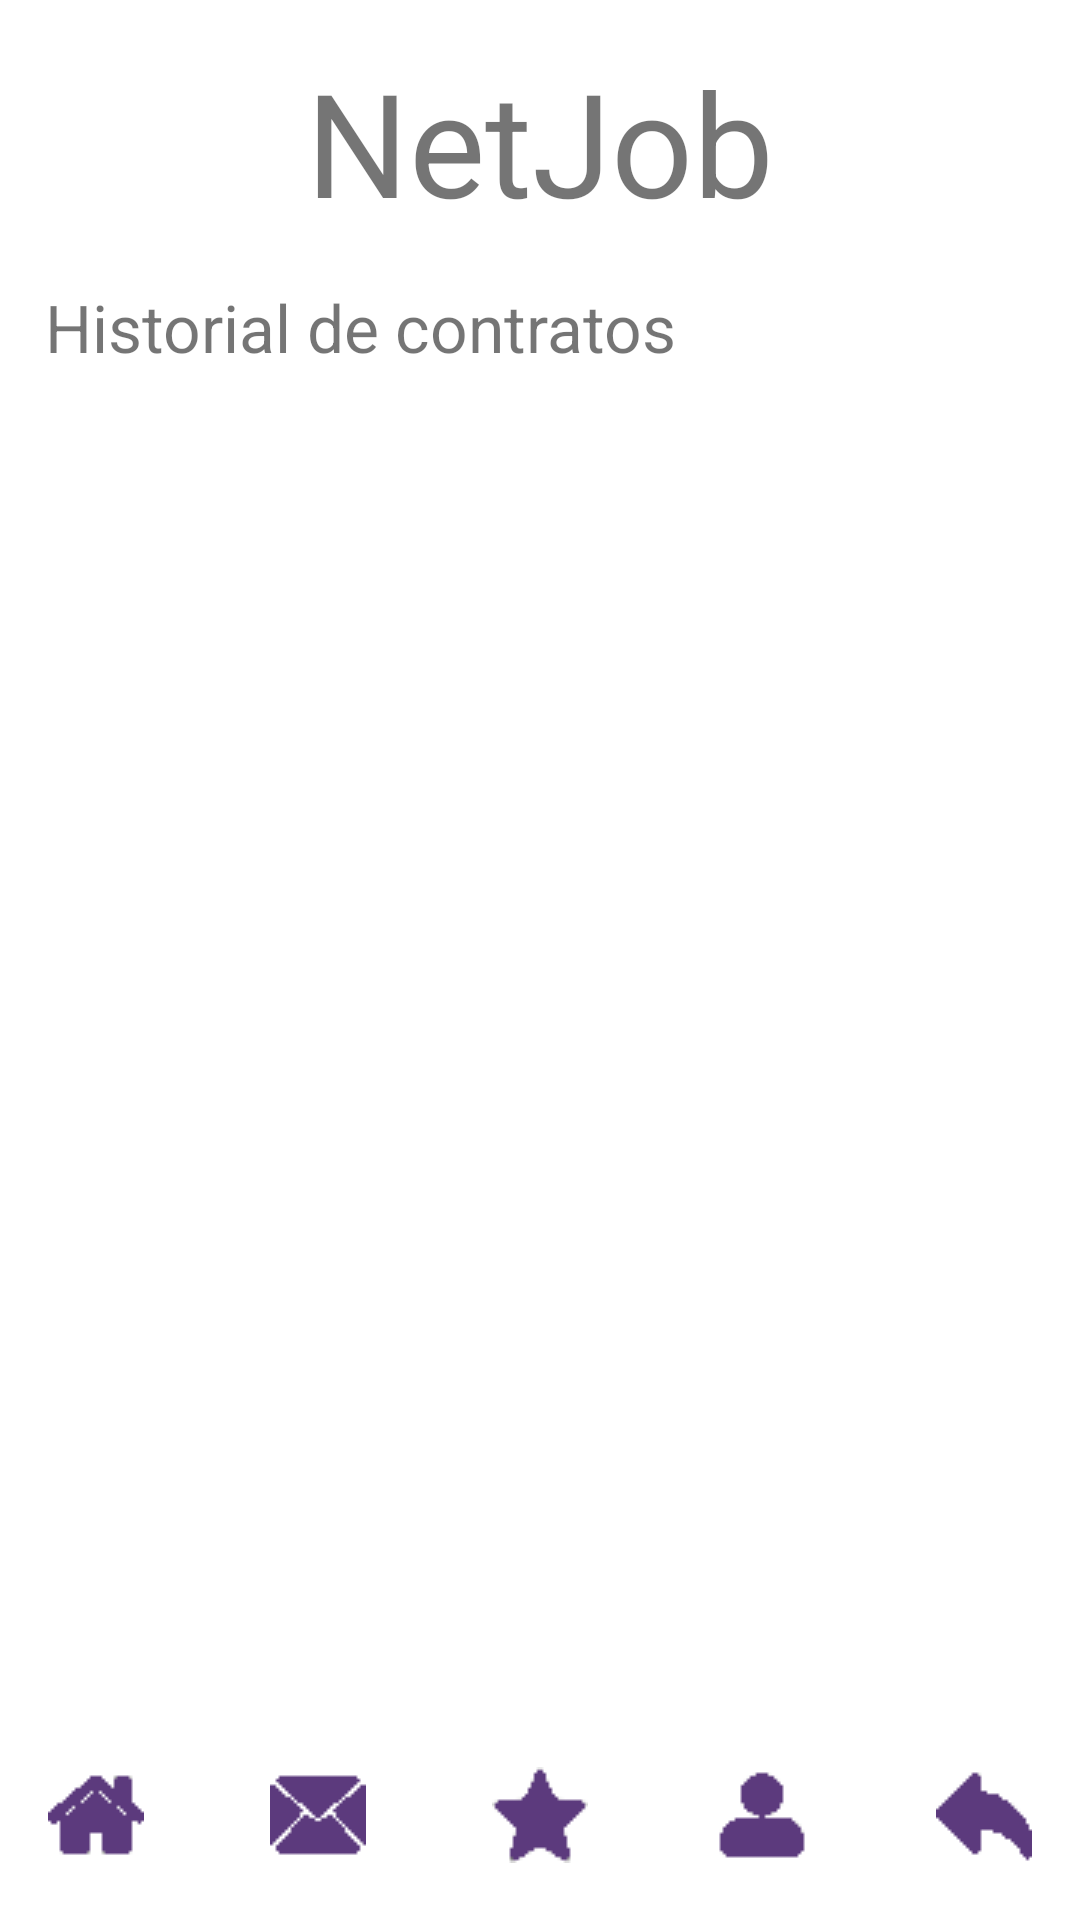

Point at icon controls on the screen. Image size 1080x1920, points as [x,y].
back: [984,1816]
buzon: [318,1815]
favorito: [540,1816]
inicio: [96,1815]
perfil: [762,1815]
